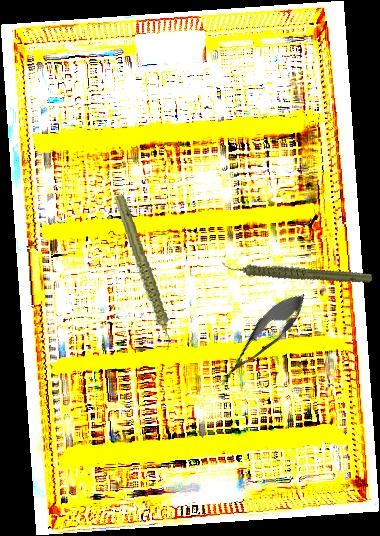Handpiece: (220, 228, 374, 314), (113, 192, 173, 354)
Micro Scissor: (210, 283, 314, 395)
